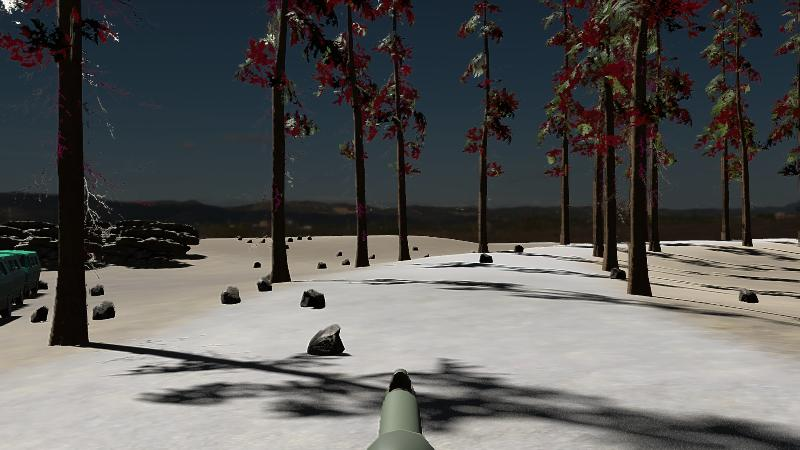car: (0, 247, 42, 331)
